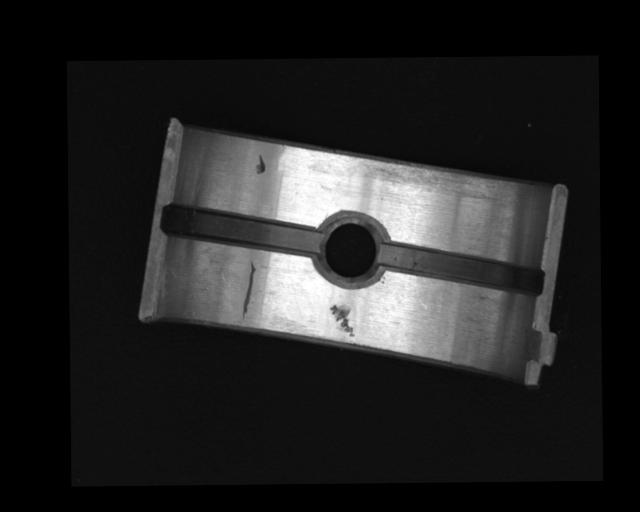bruise: (328, 303, 357, 337), (254, 153, 265, 175)
gap: (377, 239, 544, 296), (162, 203, 321, 255)
hole: (315, 209, 386, 284)
nick: (240, 260, 255, 321)
scratch: (354, 155, 494, 201)
